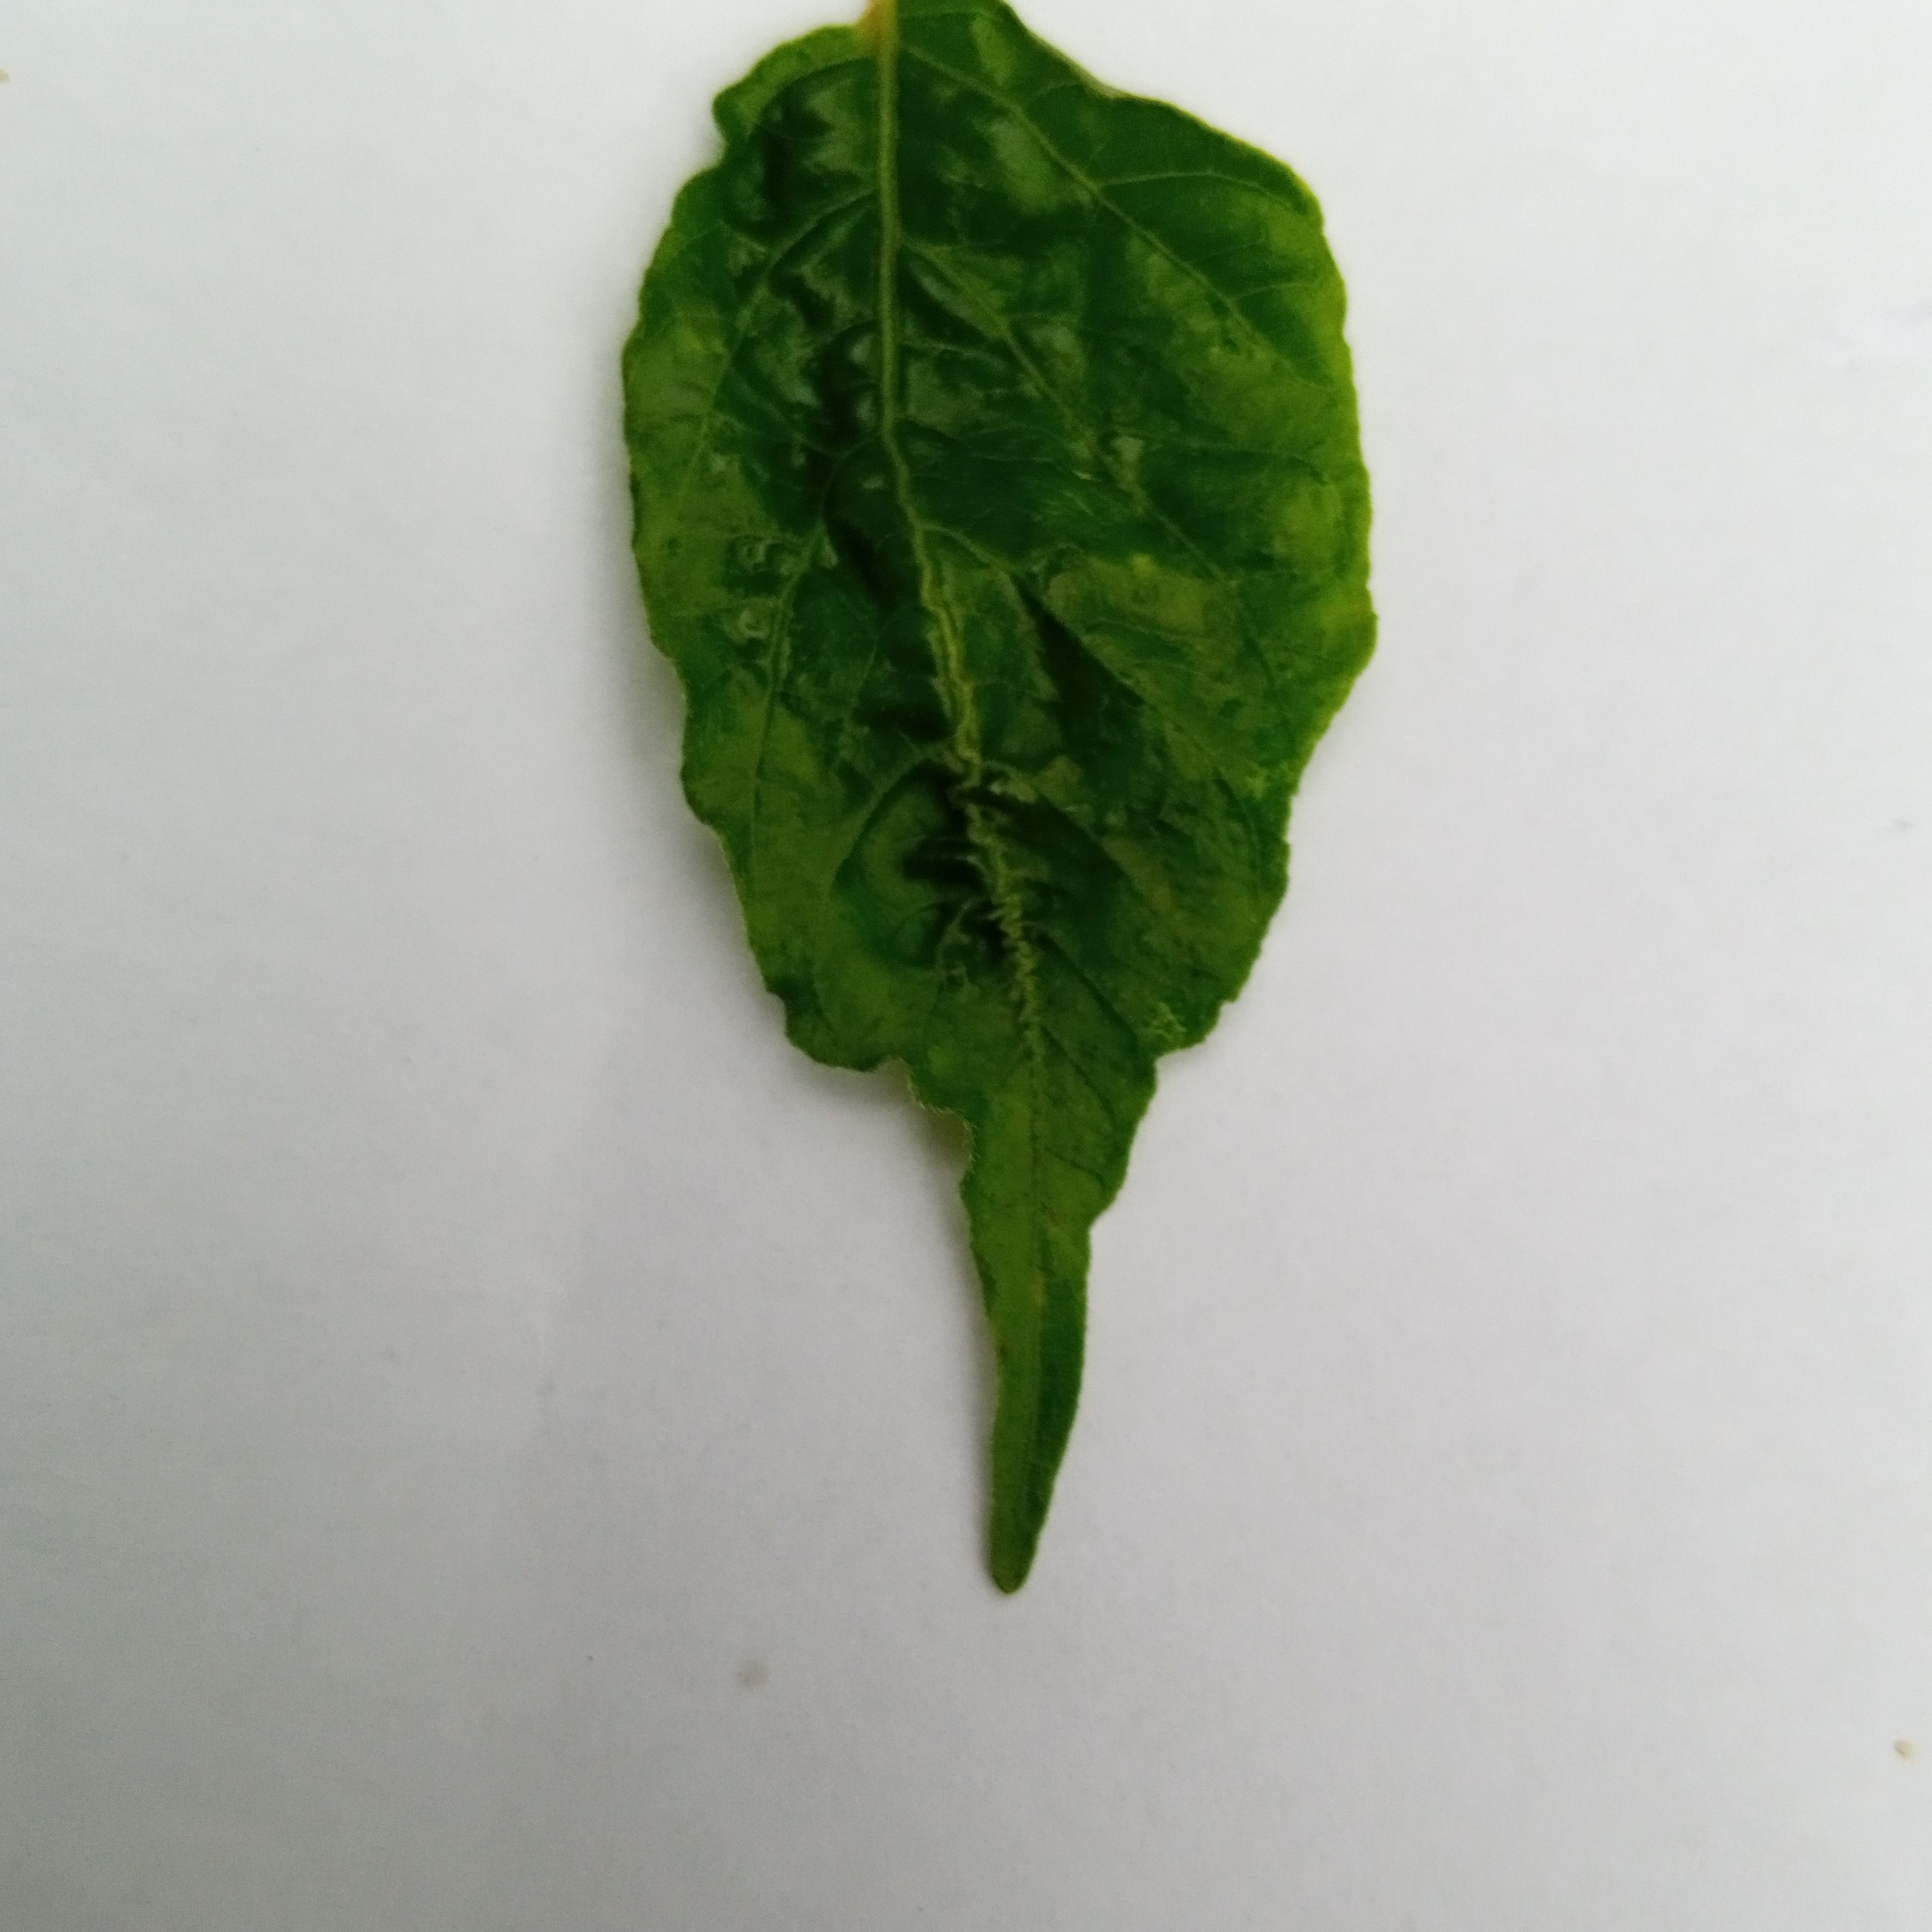Leaf: (373, 0, 1555, 1658)
